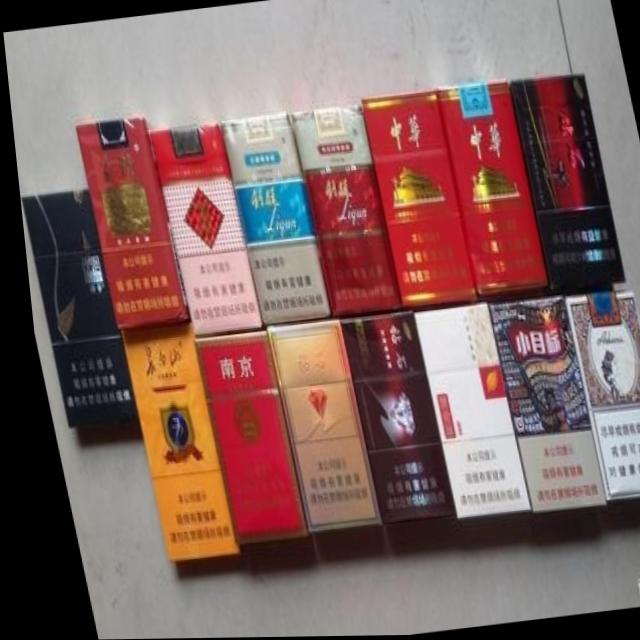box: (113, 320, 228, 562), (17, 189, 130, 428), (407, 307, 521, 523), (358, 92, 471, 308), (481, 298, 595, 512), (333, 313, 446, 525), (187, 331, 298, 545), (508, 74, 619, 287), (260, 322, 370, 536), (73, 115, 183, 327), (433, 83, 542, 295), (147, 124, 254, 337), (286, 107, 396, 314), (216, 113, 323, 325), (557, 292, 640, 501)
